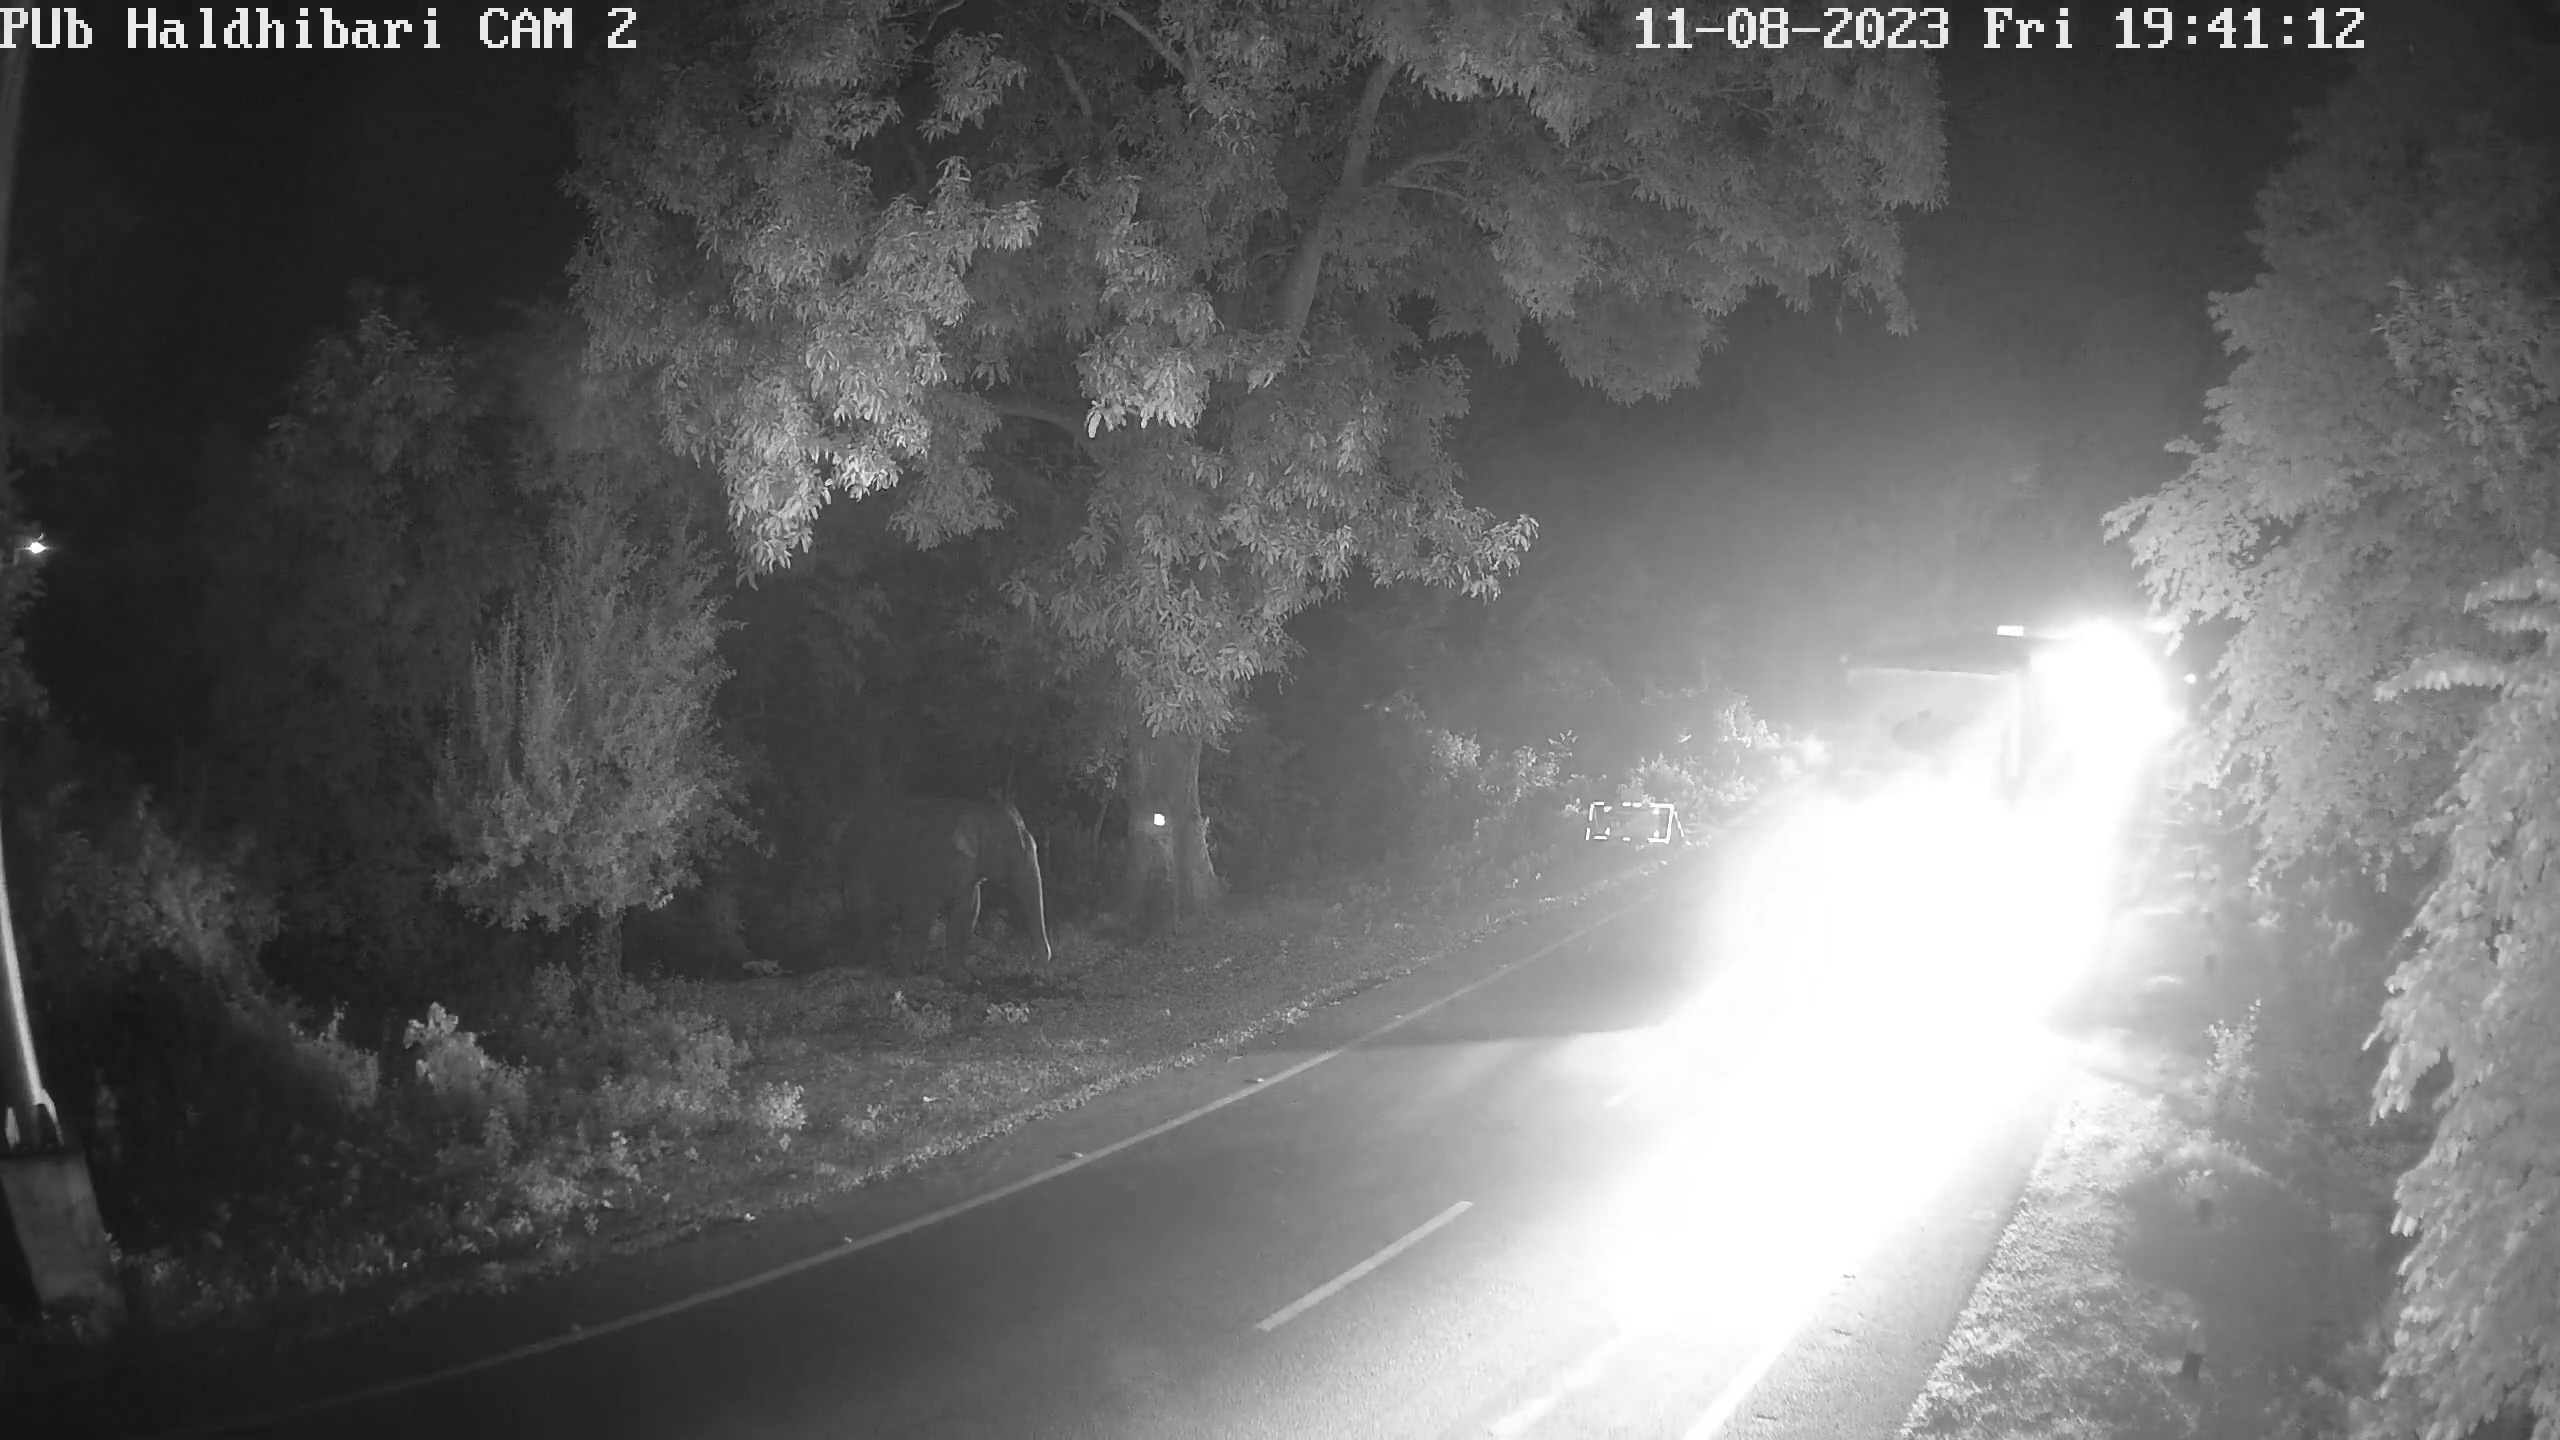elephants: (825, 807, 1053, 985)
